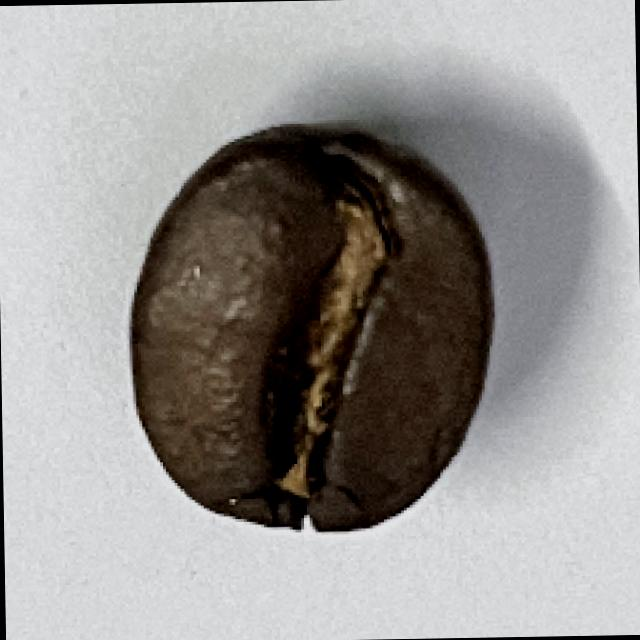bean: (120, 120, 502, 541)
